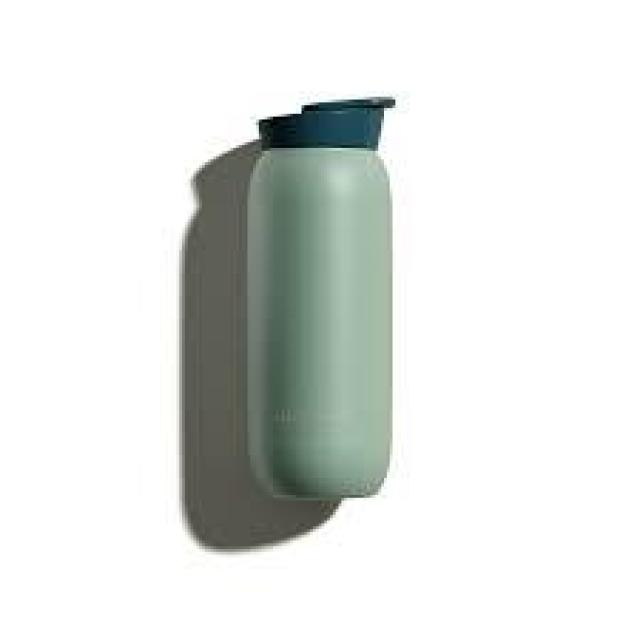bottle: (249, 91, 402, 501)
